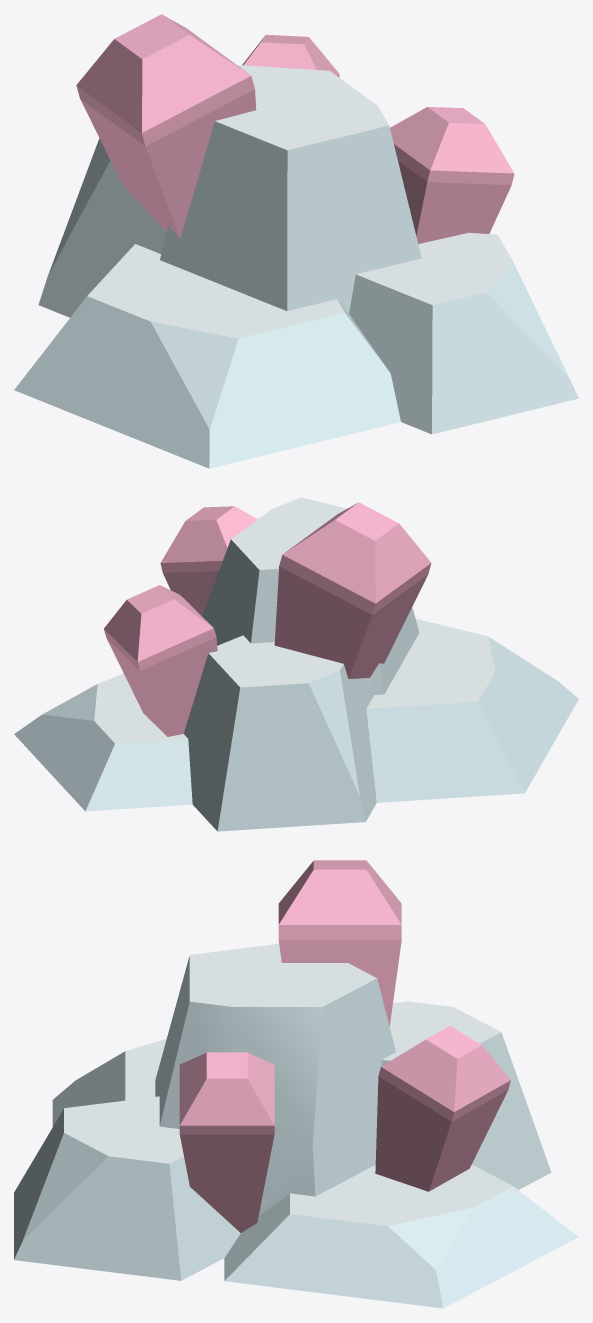
The model's file is snow_detail_crystallarge.glb.
3 views of the same model, one above another, from view 1: azimuth 30°, elevation 25°; view 2: azimuth 150°, elevation 25°; view 3: azimuth 270°, elevation 25° (orthographic). The views are drawn at different scales.
Parts seen in each view (by area): view 1: rocks, crystal (×3); view 2: rocks, crystal (×3); view 3: rocks, crystal (×3).
Part boxes in pixels (x1,y1,x2,y2): rocks: (14,65,578,468); crystal (×3): (76,14,514,243); rocks: (14,497,578,831); crystal (×3): (104,502,431,736); rocks: (14,944,578,1308); crystal (×3): (179,860,510,1232).
Bounding box in the file's own units: 1 × 0.5565 × 1.
